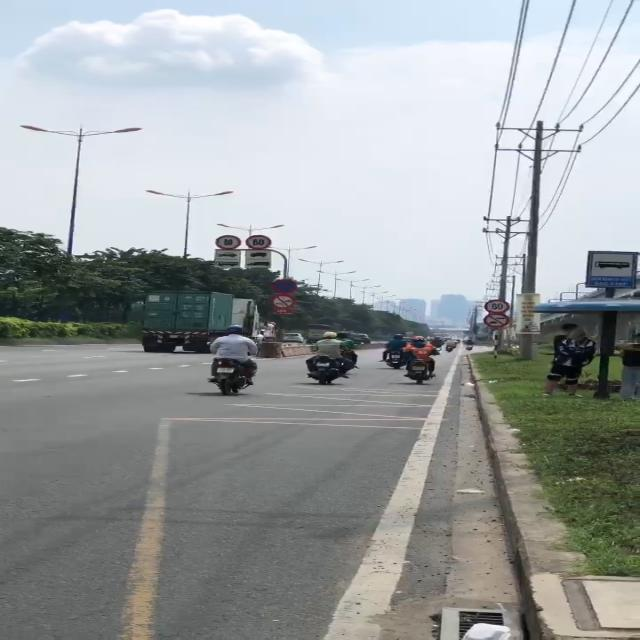Bien bao toc do toi da cho phep: (244, 233, 274, 250), (482, 297, 512, 314), (214, 232, 242, 250)
